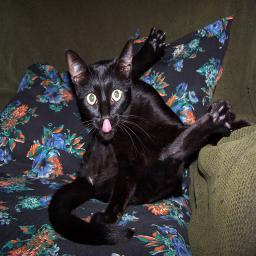catnose: (100, 112, 110, 120)
